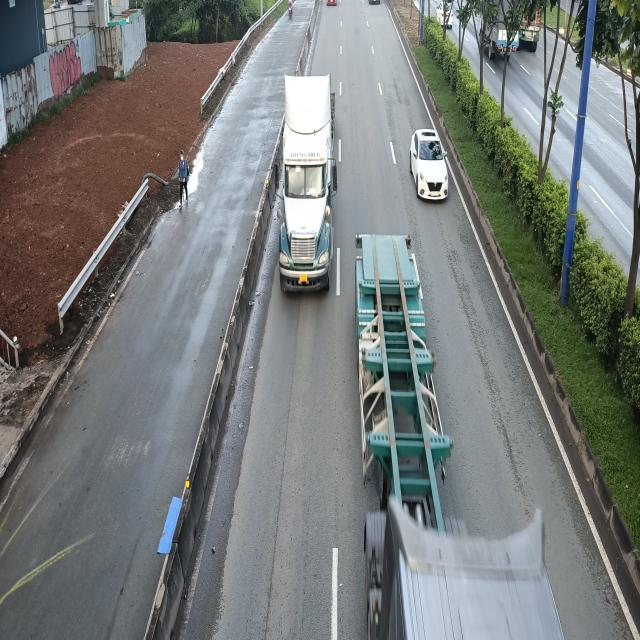car: (409, 127, 448, 201)
container: (355, 233, 565, 640), (271, 75, 338, 298)
